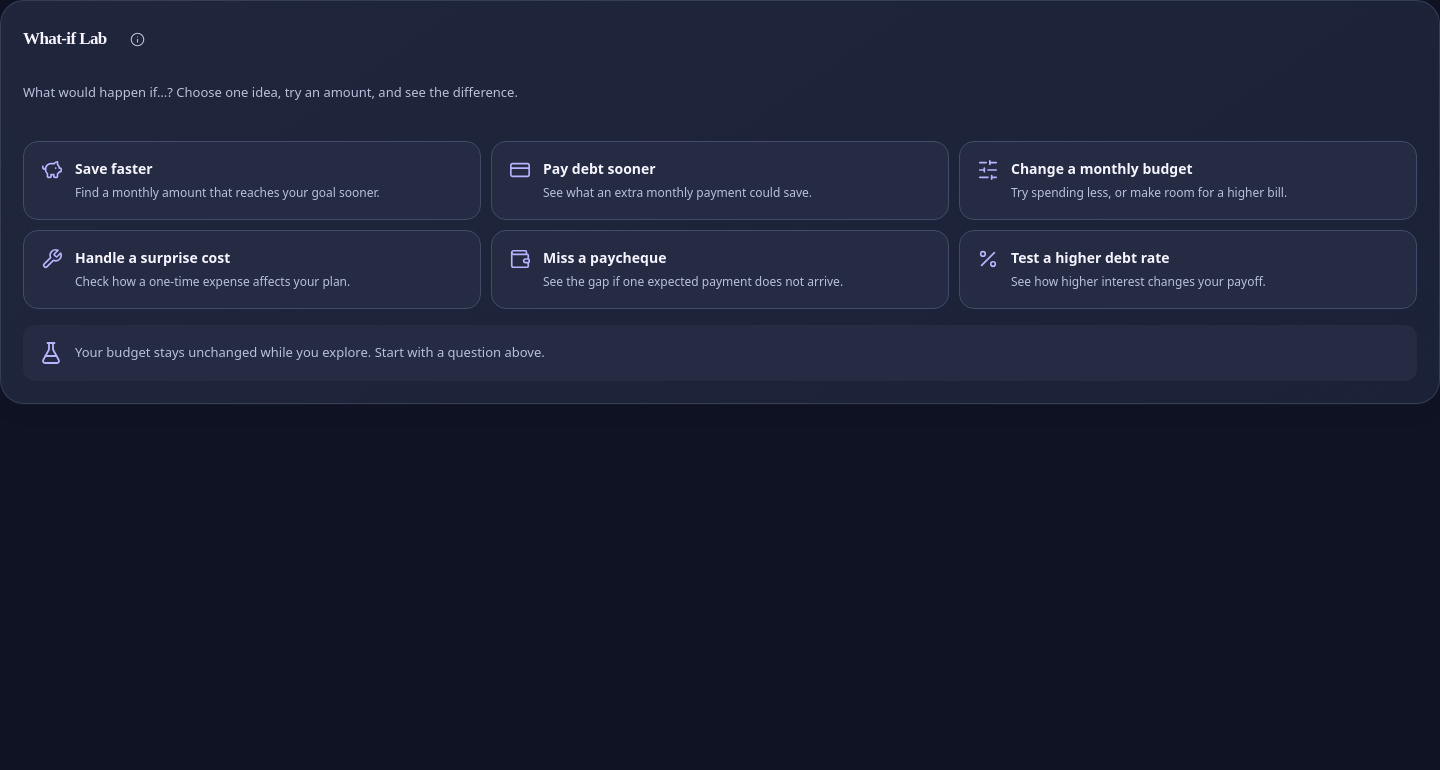
Test: guided What-if Lab › shows only the controls and outcomes for the chosen question
Click the button "Save faster": (114, 168) [23,140,481,220]
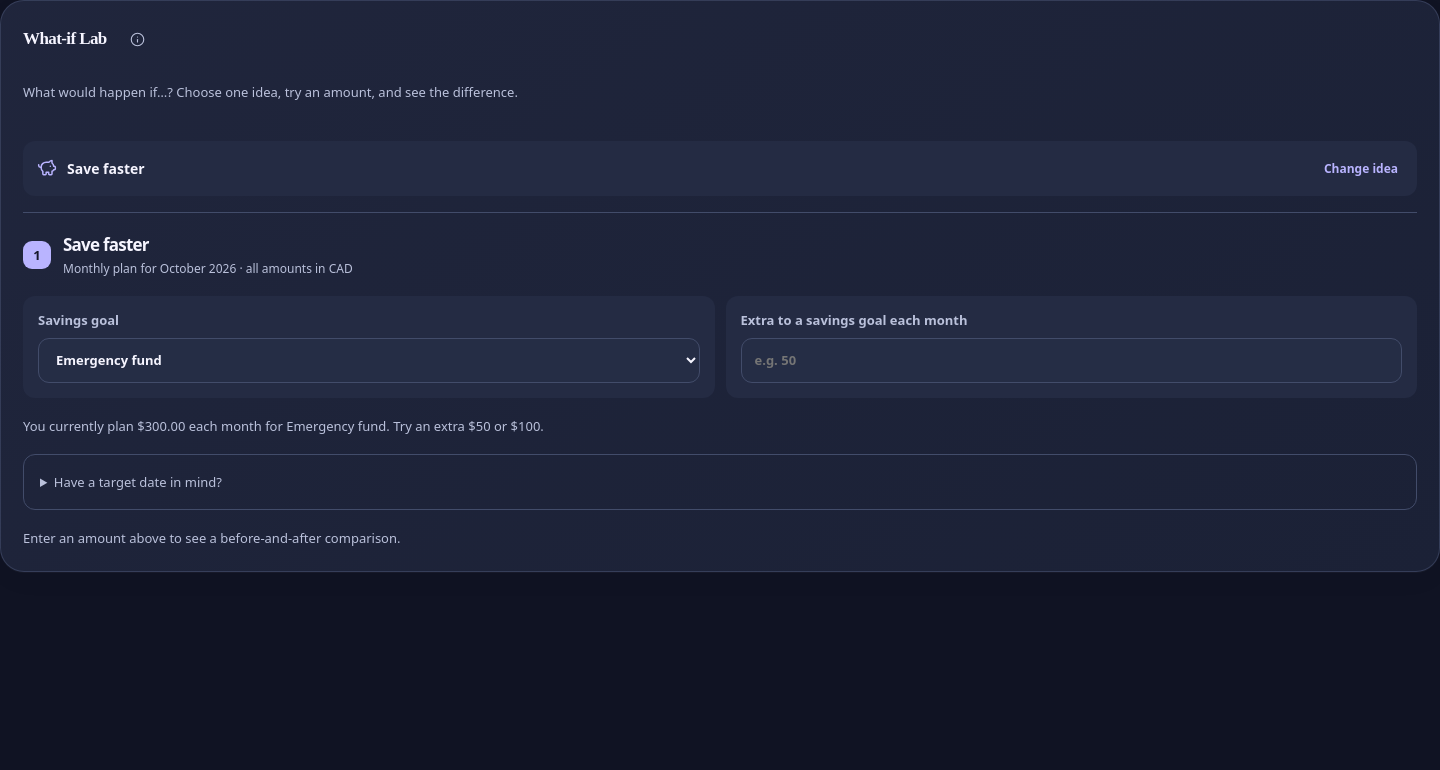
In the number field labelled "Extra to a savings goal each month": (1071, 360) [740,338,1402,382], type "50"
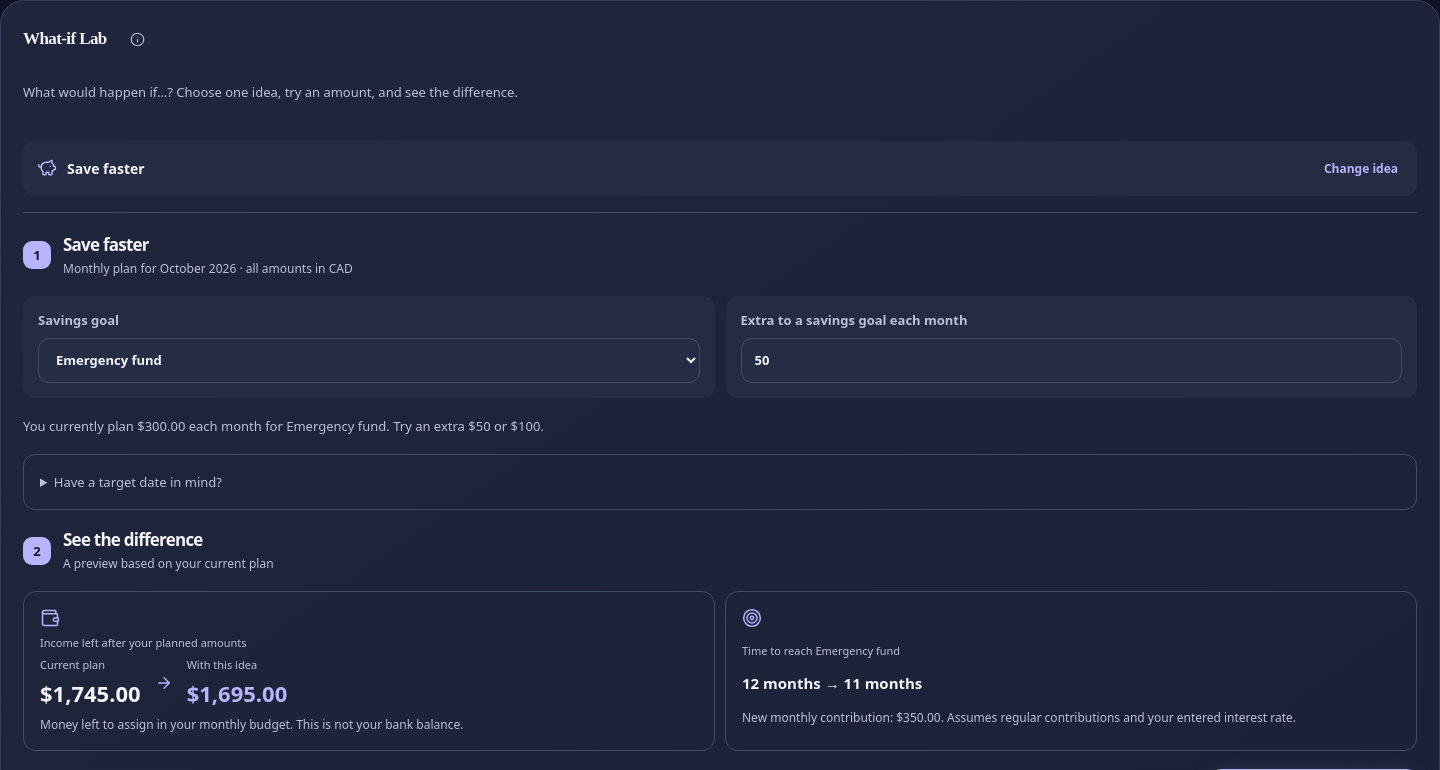
Result: the text "Time to reach Emergency fund" is shown at [742,643,900,658]
Click the button "Change idea": (1361, 168) [1319,154,1403,182]
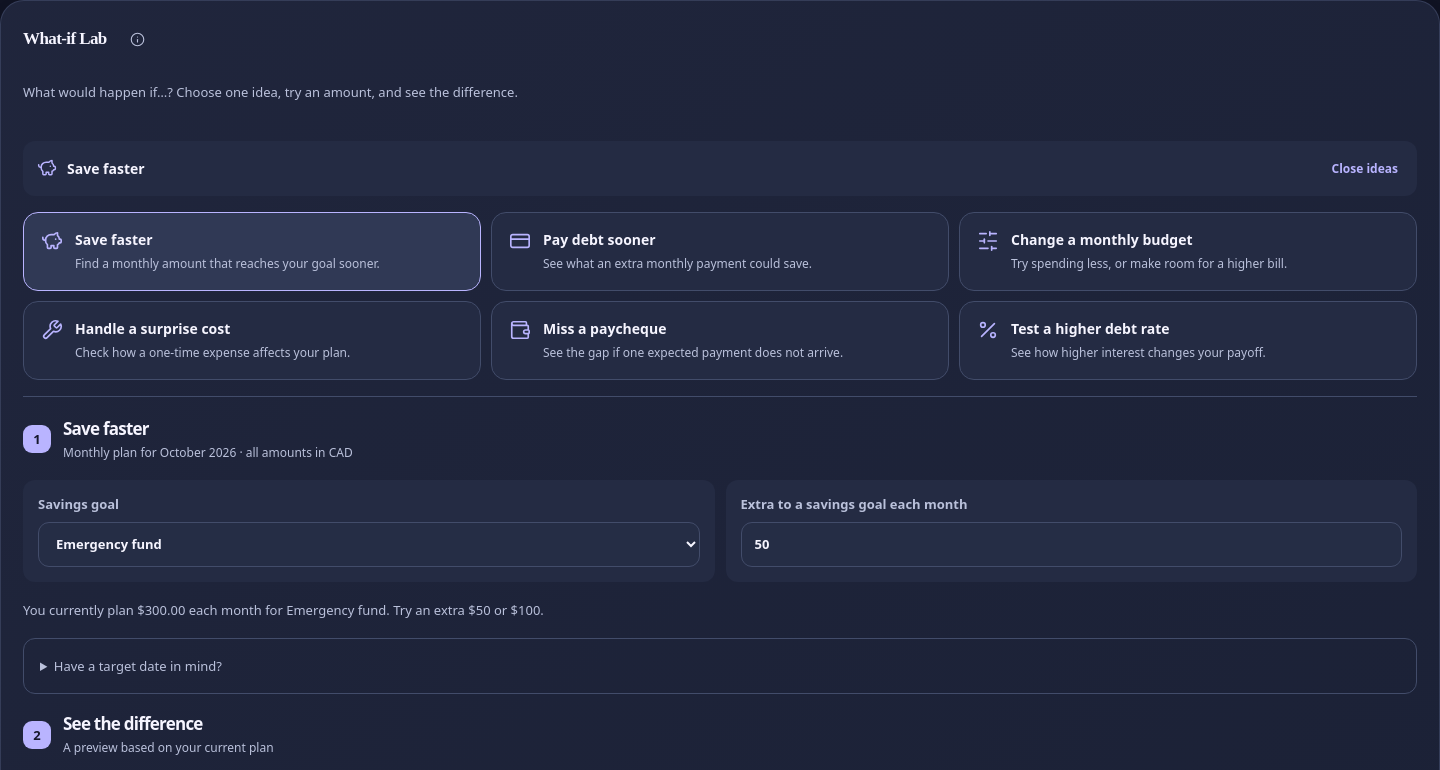
Click the button "Handle a surprise cost": (153, 328) [23,300,481,380]
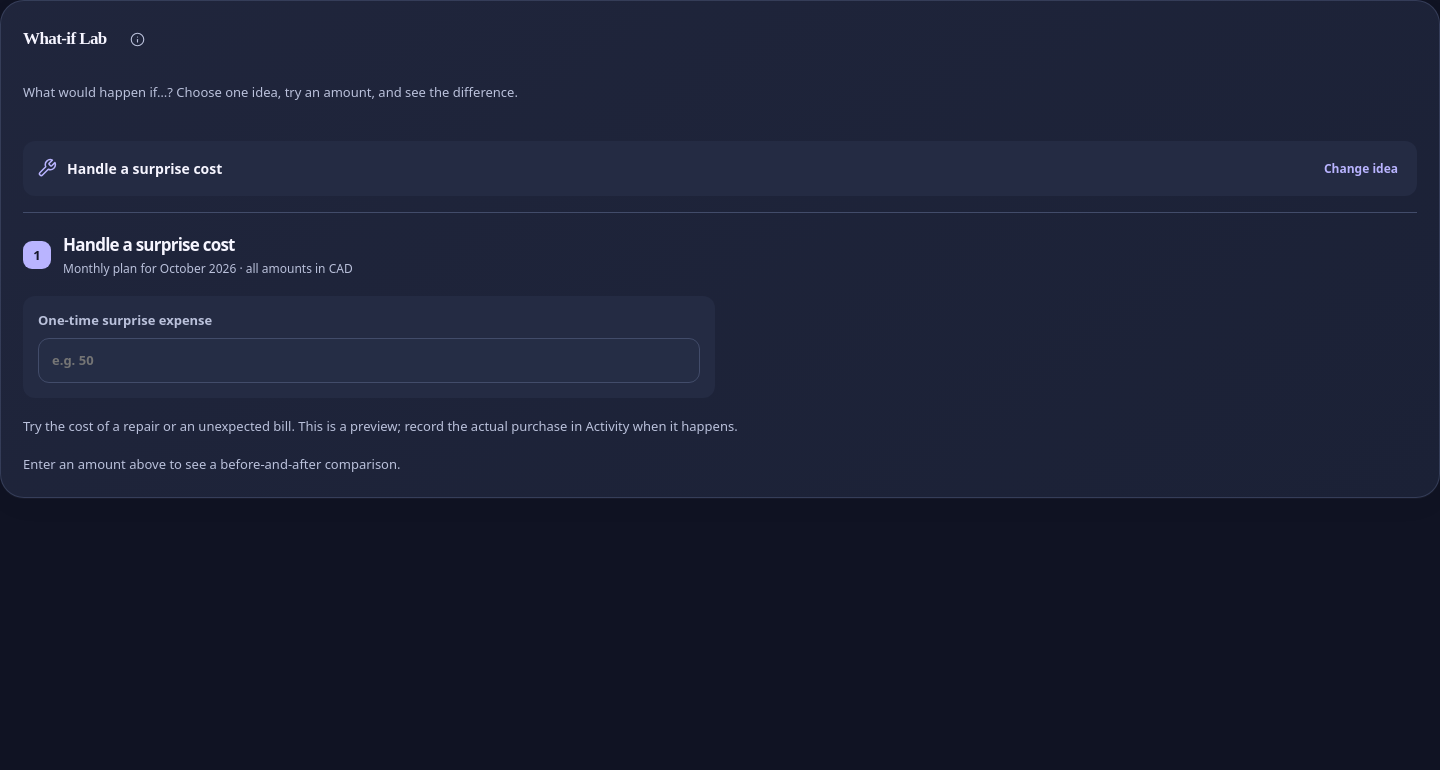
Result: the text labelled "Savings goal" is gone
